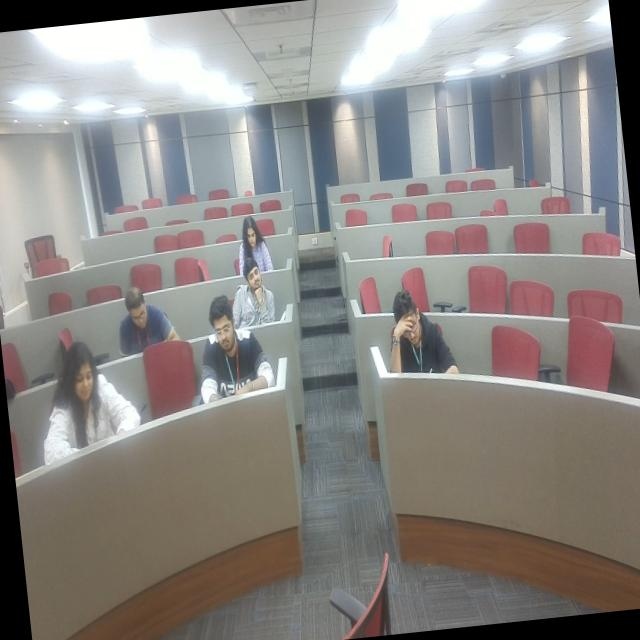cheating: (375, 294, 460, 394)
non-cheating: (39, 336, 144, 475), (195, 294, 281, 420), (108, 278, 188, 359), (216, 217, 276, 271)
